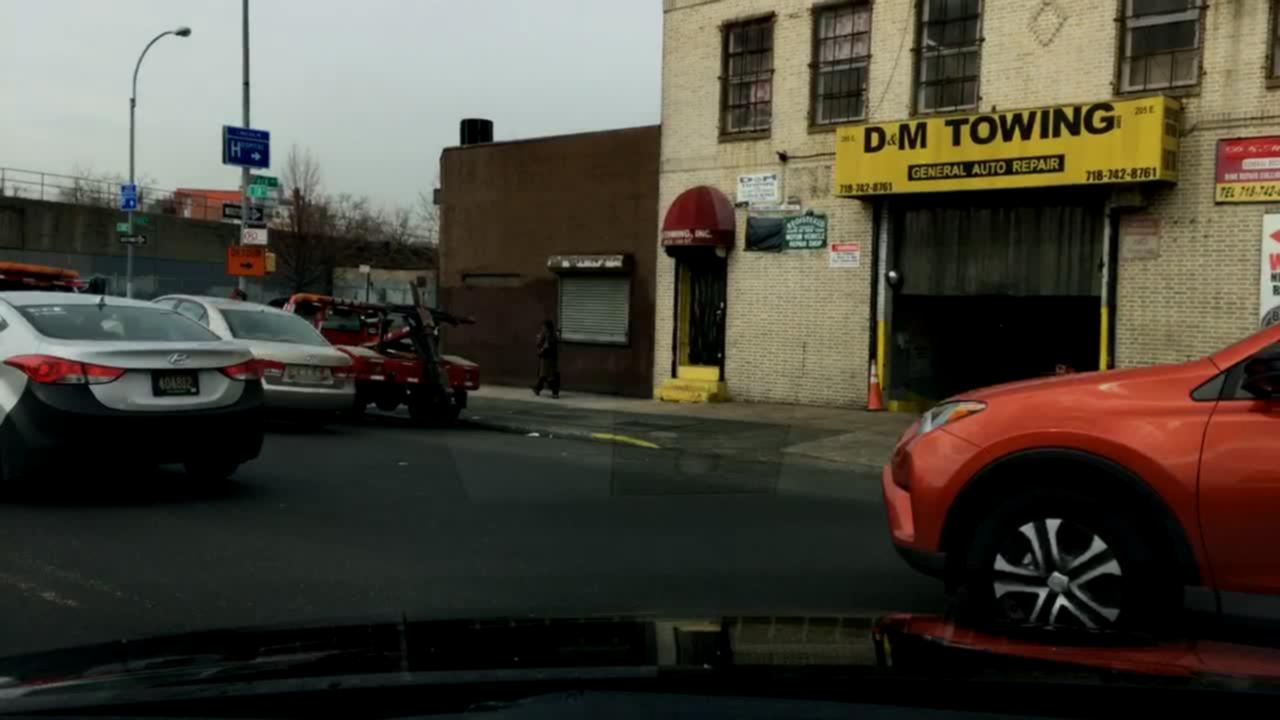Hyundai: (161, 345, 194, 369)
